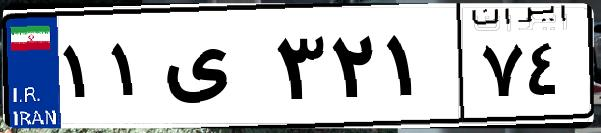1: (385, 28, 445, 110), (57, 26, 110, 100), (110, 28, 158, 98)
2: (330, 28, 385, 110)
3: (270, 28, 330, 110)
4: (525, 38, 570, 115)
7: (475, 38, 525, 113)
ی: (158, 20, 270, 120)
